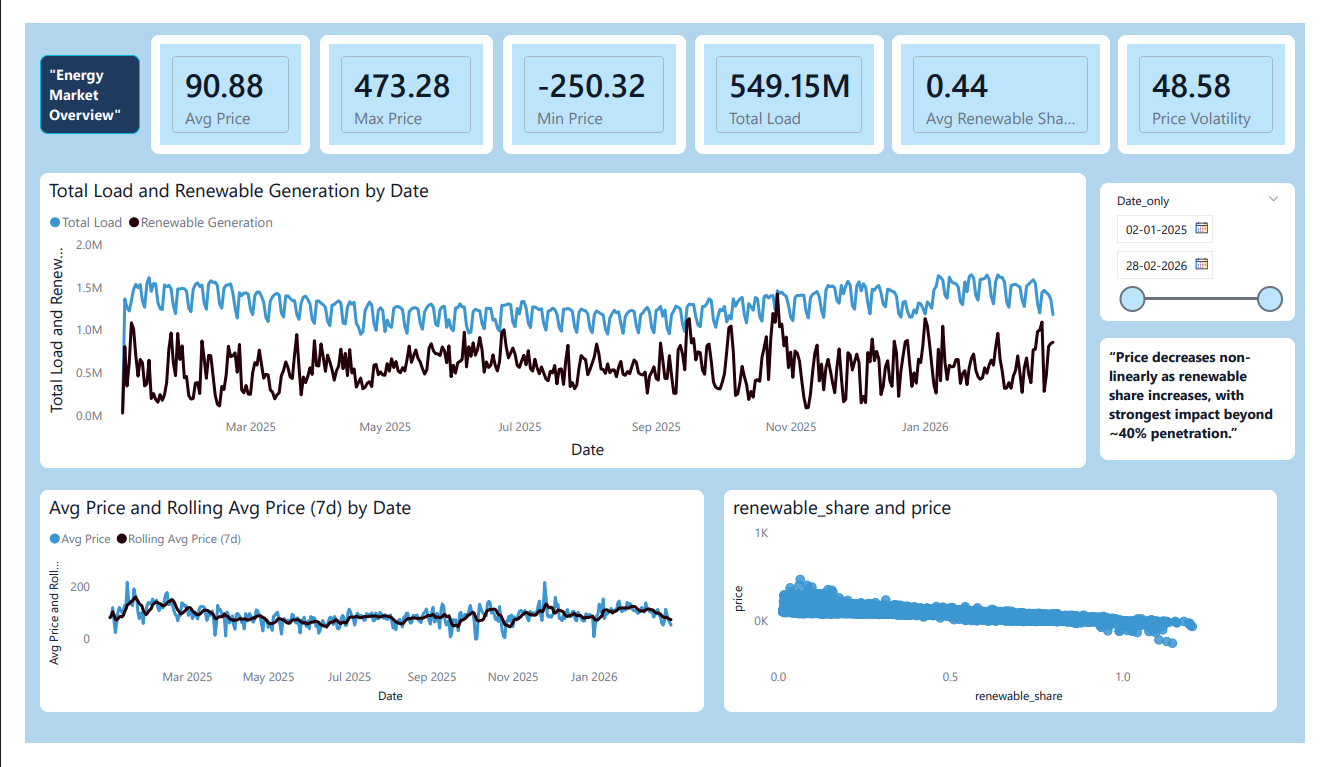

The page's visual inventory and layout, read from the dashboard file:
{"tool":"powerbi","page":{"name":"Energy Market Overview","canvas":[1280,720],"ordinal":0},"visuals":[{"type":"cardVisual","fields":{"Data":["_measures.Avg Price"]},"box":[125.5,11.8,159.9,119.6],"z":0},{"type":"cardVisual","fields":{"Data":["_measures.Max Price"]},"box":[294.9,11.8,172.9,119.6],"z":1000},{"type":"cardVisual","fields":{"Data":["_measures.Min Price"]},"box":[478.5,11.8,182.4,119.6],"z":2000},{"type":"cardVisual","fields":{"Data":["_measures.Total Load"]},"box":[670.3,11.8,188.3,119.6],"z":3000},{"type":"cardVisual","fields":{"Data":["_measures.Avg Renewable Share"]},"box":[866.9,11.8,217.9,119.6],"z":4000},{"type":"cardVisual","fields":{"Data":["_measures.Price Volatility"]},"box":[1093.1,11.8,176.5,119.6],"z":5000},{"type":"lineChart","fields":{"Category":["DateTable.Date"],"Y":["_measures.Total Load","_measures.Renewable Generation"]},"box":[15.4,150.4,1045.7,294.9],"z":6000},{"type":"lineChart","fields":{"Category":["DateTable.Date"],"Y":["_measures.Avg Price","_measures.Rolling Avg Price (7d)"]},"box":[15.4,466.6,663.2,222.6],"z":7000},{"type":"scatterChart","fields":{"X":["powerbi_final_dataset.renewable_share"],"Y":["powerbi_final_dataset.price"]},"box":[698.7,466.6,553.1,222.6],"z":8000},{"type":"slicer","fields":{"Values":["powerbi_final_dataset.Date_only"]},"box":[1075.4,159.9,194.2,138.6],"z":9000},{"type":"textbox","box":[1075.4,315,194.2,122],"z":10000},{"type":"textbox","box":[15.4,32,99.5,79.3],"z":10001}]}

Visuals, with their boxes in screenshot pixels (x1, y1, x2, y2), scaled from the page's 1280x720 canvas onto the 1329x767 screenshot:
cardVisual - _measures.Avg Price: select_region(130, 13, 296, 140)
cardVisual - _measures.Max Price: select_region(306, 13, 486, 140)
cardVisual - _measures.Min Price: select_region(497, 13, 686, 140)
cardVisual - _measures.Total Load: select_region(696, 13, 891, 140)
cardVisual - _measures.Avg Renewable Share: select_region(900, 13, 1126, 140)
cardVisual - _measures.Price Volatility: select_region(1135, 13, 1318, 140)
lineChart - DateTable.Date x _measures.Total Load: select_region(16, 160, 1102, 474)
lineChart - DateTable.Date x _measures.Avg Price: select_region(16, 497, 705, 734)
scatterChart - powerbi_final_dataset.renewable_share x powerbi_final_dataset.price: select_region(725, 497, 1300, 734)
slicer - powerbi_final_dataset.Date_only: select_region(1117, 170, 1318, 318)
textbox: select_region(1117, 336, 1318, 466)
textbox: select_region(16, 34, 119, 119)
